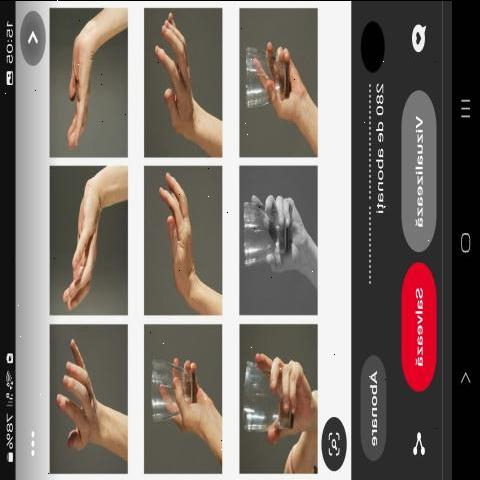Hands: (44, 331, 126, 463), (146, 170, 214, 317), (148, 11, 212, 154), (52, 165, 112, 315), (58, 18, 120, 158)
